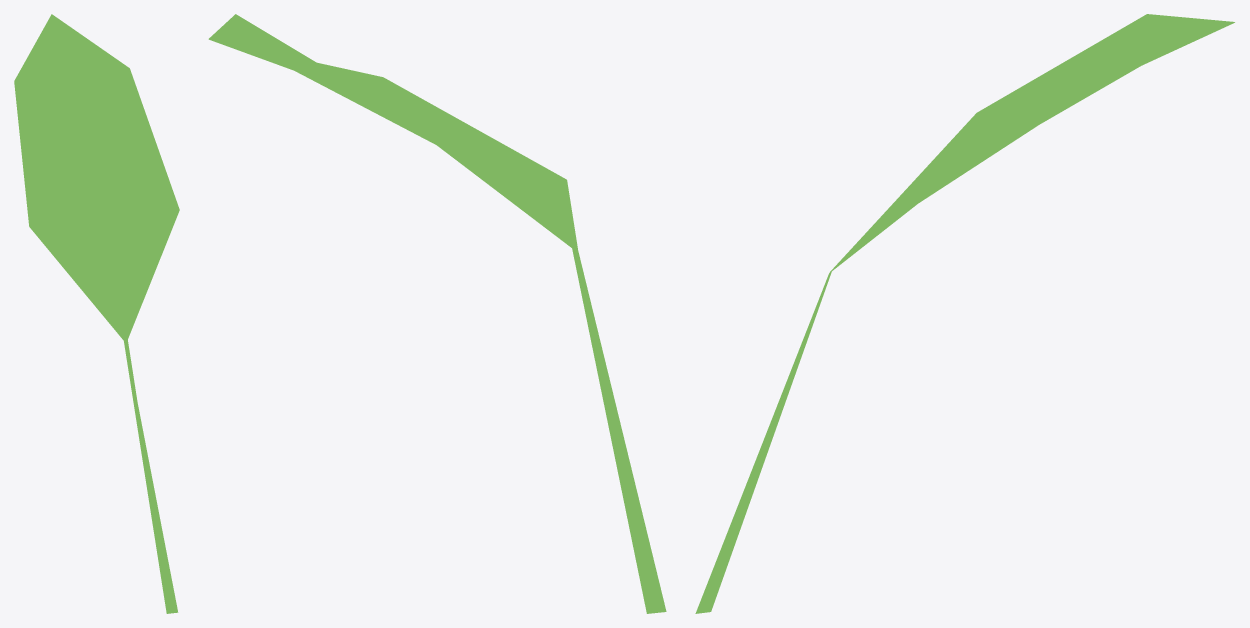
Rendered from Plant_j_TwoS_06.fbx.
3 views of the same model, side by side, from view 1: azimuth 30°, elevation 25°; view 2: azimuth 150°, elevation 25°; view 3: azimuth 270°, elevation 25° (orthographic). The views are drawn at different scales.
Parts seen in each view (by area): view 1: Plant_j_TwoS_06; view 2: Plant_j_TwoS_06; view 3: Plant_j_TwoS_06.
Part boxes in pixels (x1,y1,x2,y2): Plant_j_TwoS_06: [14, 14, 179, 613]; Plant_j_TwoS_06: [208, 14, 666, 613]; Plant_j_TwoS_06: [695, 14, 1234, 613].
Size of the model in its own units: 0.0911 by 0.268 by 0.2064.
